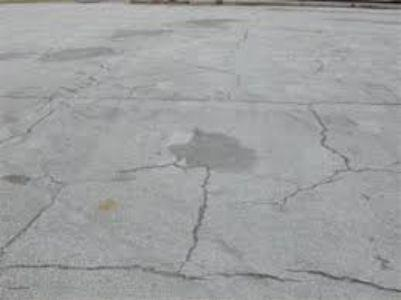alligator-crack: (3, 28, 401, 299)
